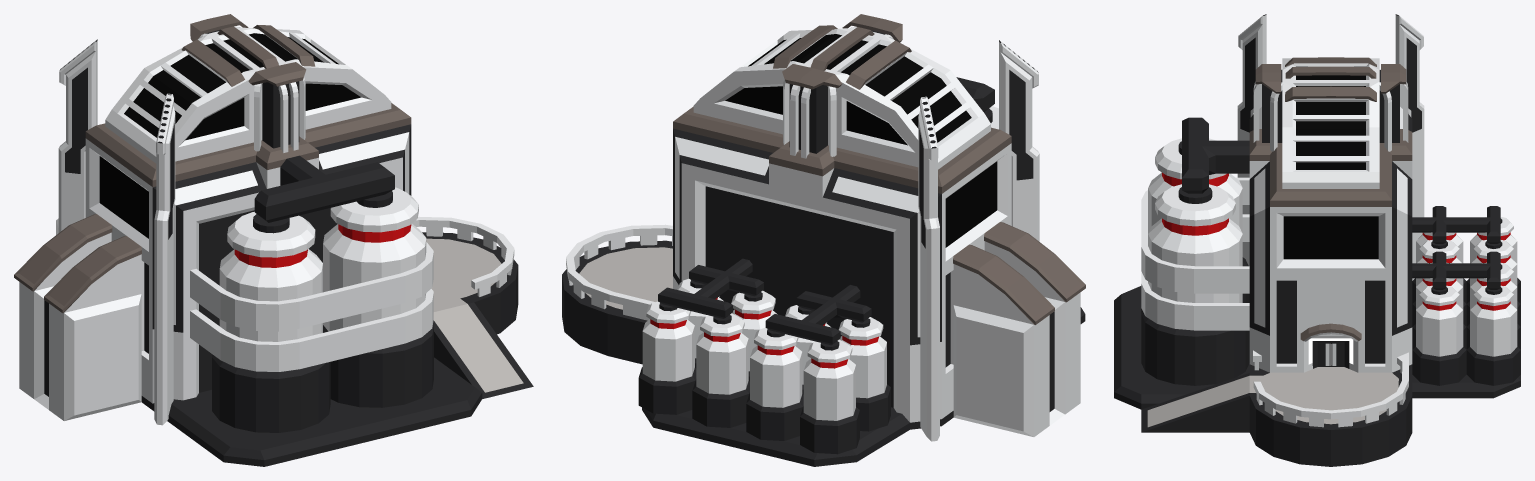
The model's file is drinkfactory.glb.
3 renders of one model, left to right at view 1: azimuth 30°, elevation 25°; view 2: azimuth 150°, elevation 25°; view 3: azimuth 270°, elevation 25°, orthographic. The views are drawn at different scales.
Visible parts, largest first — view 1: DrinkFactory_Body, DrinkFactory_Cylinders, DrinkFactory_Parts, DrinkFactory_Part, DrinkFactory_Enter, DrinkFactory_Foundation, DrinkFactory_Chimney; view 2: DrinkFactory_Body, DrinkFactory_Cylinders, DrinkFactory_Part, DrinkFactory_Parts, DrinkFactory_Chimney, DrinkFactory_Enter, DrinkFactory_Foundation; view 3: DrinkFactory_Body, DrinkFactory_Cylinders, DrinkFactory_Parts, DrinkFactory_Enter, DrinkFactory_Foundation, DrinkFactory_Chimney, DrinkFactory_Door.
Boxes of the visible parts, x1=… form: DrinkFactory_Body: x1=85, y1=27, x2=411, y2=403; DrinkFactory_Cylinders: x1=56, y1=187, x2=433, y2=432; DrinkFactory_Parts: x1=125, y1=14, x2=433, y2=371; DrinkFactory_Part: x1=14, y1=214, x2=141, y2=420; DrinkFactory_Enter: x1=412, y1=216, x2=533, y2=398; DrinkFactory_Foundation: x1=141, y1=299, x2=518, y2=466; DrinkFactory_Chimney: x1=58, y1=39, x2=175, y2=425; DrinkFactory_Body: x1=673, y1=28, x2=1011, y2=422; DrinkFactory_Cylinders: x1=638, y1=106, x2=998, y2=454; DrinkFactory_Part: x1=953, y1=222, x2=1085, y2=436; DrinkFactory_Parts: x1=658, y1=14, x2=994, y2=345; DrinkFactory_Chimney: x1=918, y1=40, x2=1039, y2=441; DrinkFactory_Enter: x1=562, y1=224, x2=672, y2=357; DrinkFactory_Foundation: x1=562, y1=307, x2=1085, y2=466; DrinkFactory_Body: x1=1249, y1=58, x2=1412, y2=372; DrinkFactory_Cylinders: x1=1141, y1=138, x2=1520, y2=385; DrinkFactory_Parts: x1=1141, y1=57, x2=1500, y2=341; DrinkFactory_Enter: x1=1141, y1=350, x2=1412, y2=460; DrinkFactory_Foundation: x1=1114, y1=286, x2=1520, y2=466; DrinkFactory_Chimney: x1=1237, y1=14, x2=1424, y2=280; DrinkFactory_Door: x1=1317, y1=342, x2=1344, y2=366.
Bounding box in the file's own units: 3625 × 2331 × 3000.
Materials: 1 (1 with a texture image).
